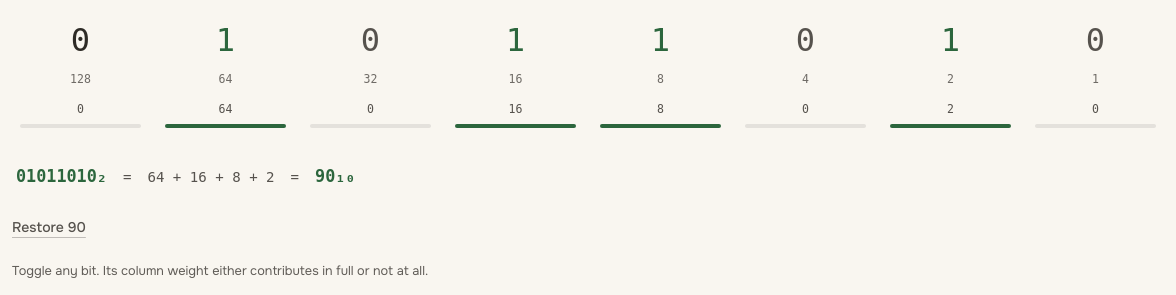
Scenario: SystemsDiagram › recomputes a binary word when a place is toggled
Expected: the text "90₁₀" is shown, 315,164 -> 355,189
Step 1. Click the button named "weight 1 is 0" → x=1096, y=70, box 1027,12 -> 1164,128
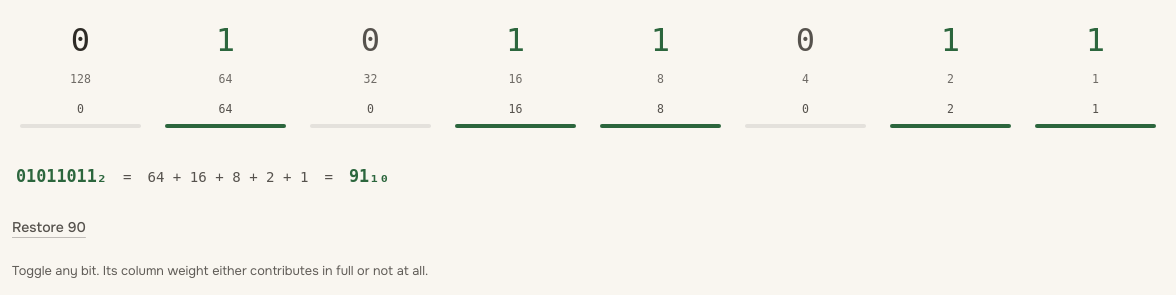
Now the text "91₁₀" is shown, box 349,164 -> 389,189
